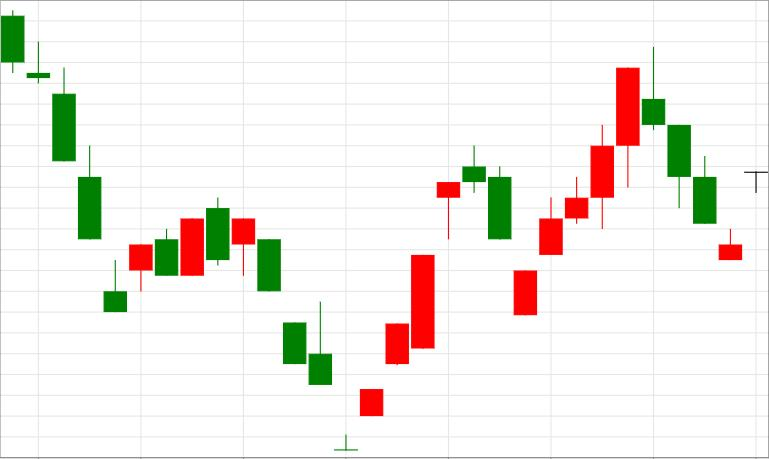inverse_hammer_rise: (206, 197, 332, 385)
shooting_star_fall: (514, 46, 664, 316)
three_black_crows_fall: (514, 46, 717, 316)
